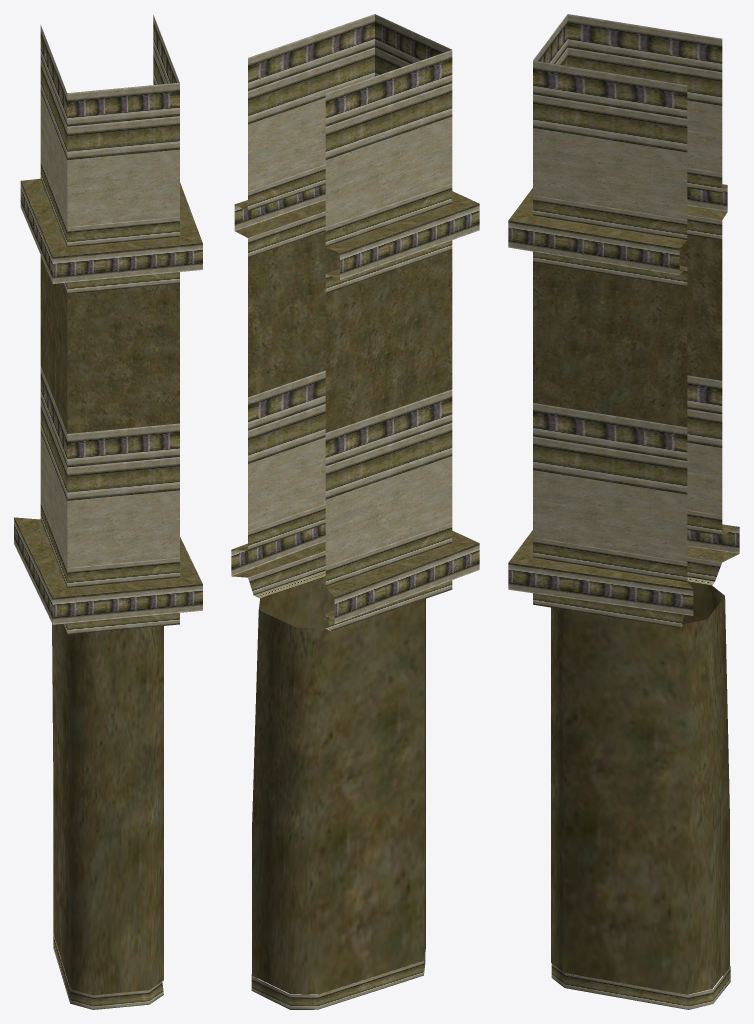
File: CH09_SMAUG_PLAYSURFACE_LAIR64.fbx
3 renders of one model, left to right at view 1: azimuth 30°, elevation 25°; view 2: azimuth 150°, elevation 25°; view 3: azimuth 270°, elevation 25°, orthographic.
Visible parts, largest first — view 1: CH09_SMAUG_PLAYSURFACE_LAIR64; view 2: CH09_SMAUG_PLAYSURFACE_LAIR64; view 3: CH09_SMAUG_PLAYSURFACE_LAIR64.
Boxes of the visible parts, x1,y1,x2,y2 form: CH09_SMAUG_PLAYSURFACE_LAIR64: (14, 15, 202, 1009); CH09_SMAUG_PLAYSURFACE_LAIR64: (231, 14, 479, 1009); CH09_SMAUG_PLAYSURFACE_LAIR64: (508, 14, 739, 1009).
Size of the model in its own units: 39981 by 192145 by 43426.
Materials: 6 (6 with a texture image).
